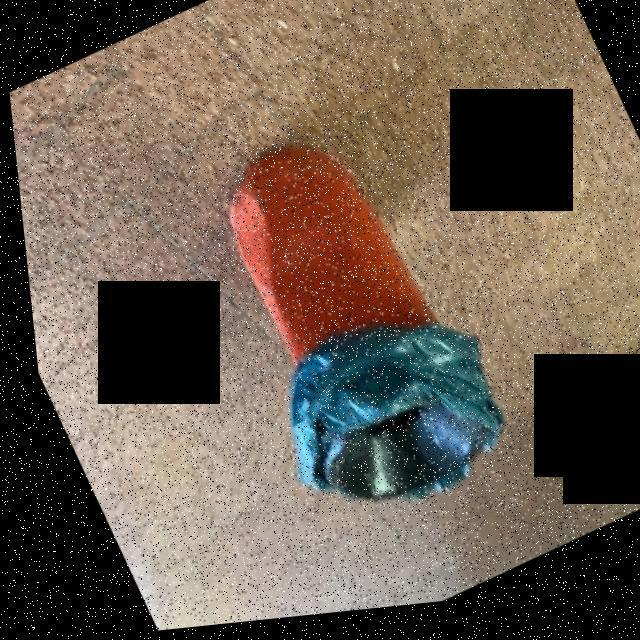bin: (133, 48, 560, 574)
